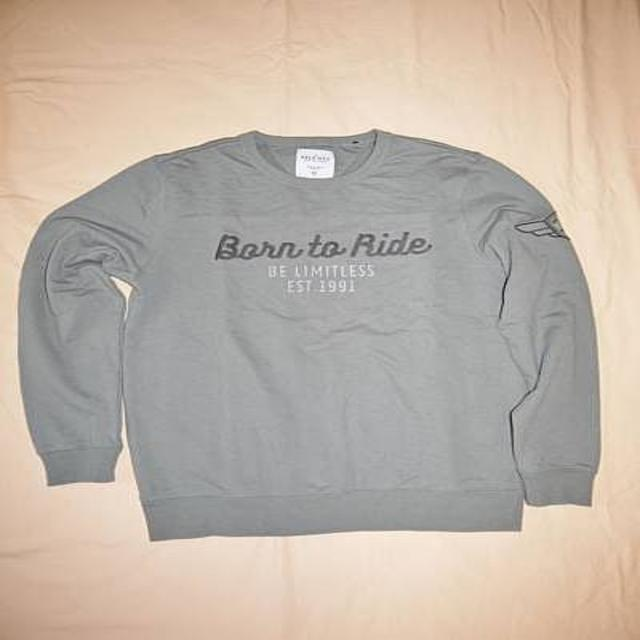SHIRT: (0, 116, 640, 549)
